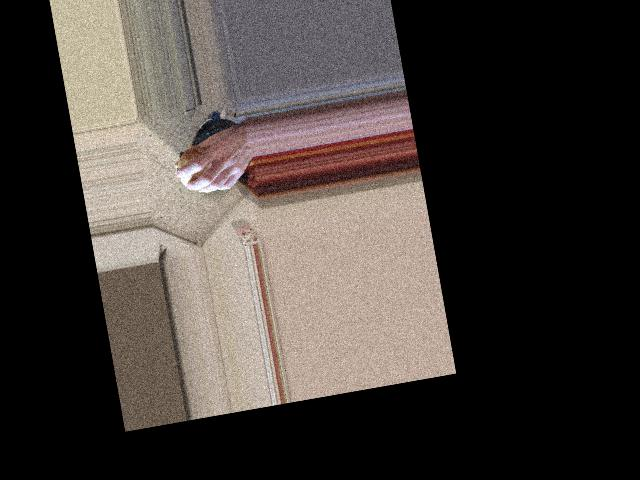onion: (174, 144, 219, 191)
